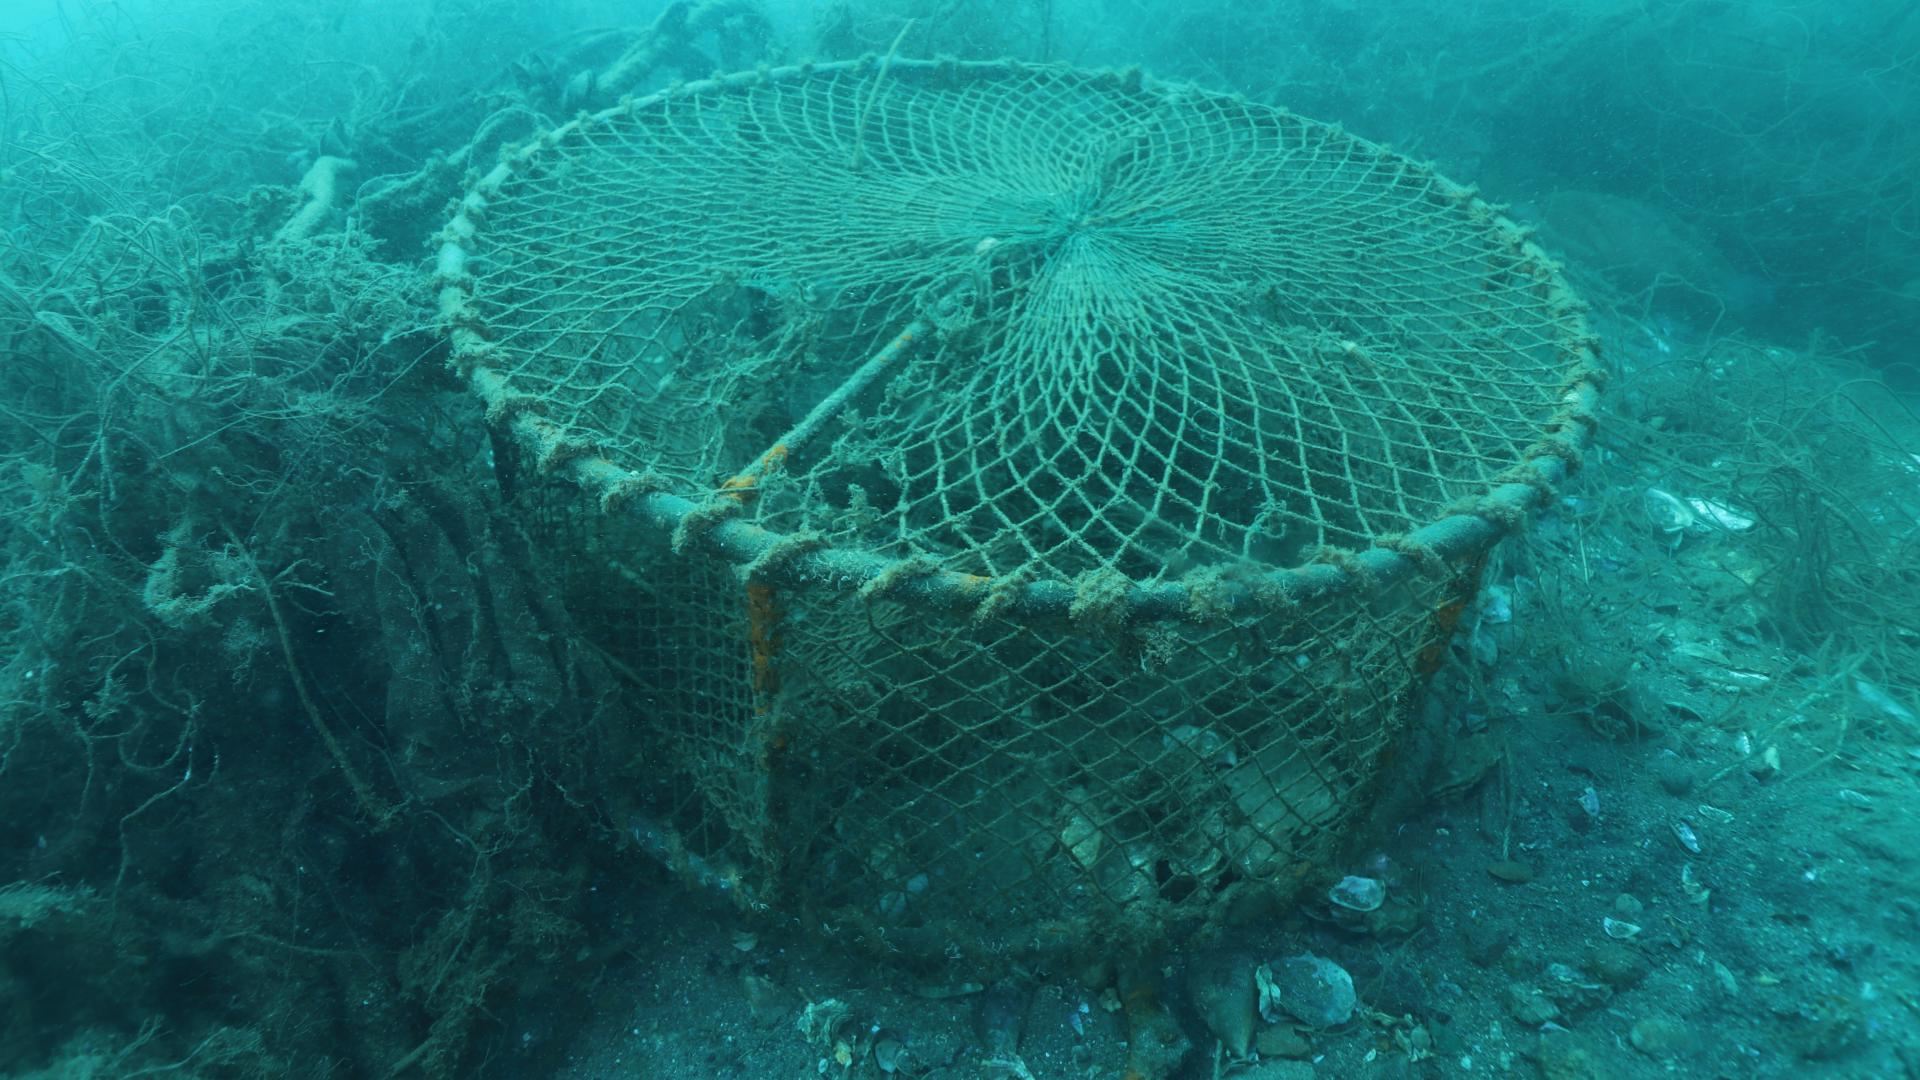circular fish trap: (433, 54, 1598, 984)
